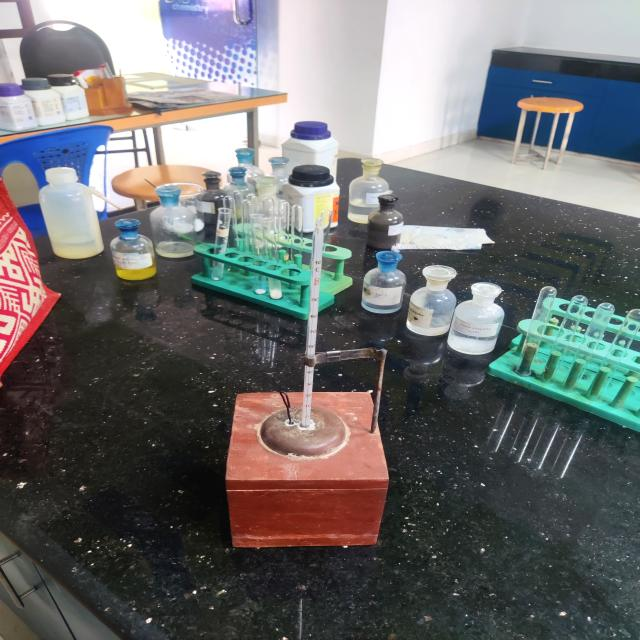Calorimeter: (196, 202, 427, 584)
